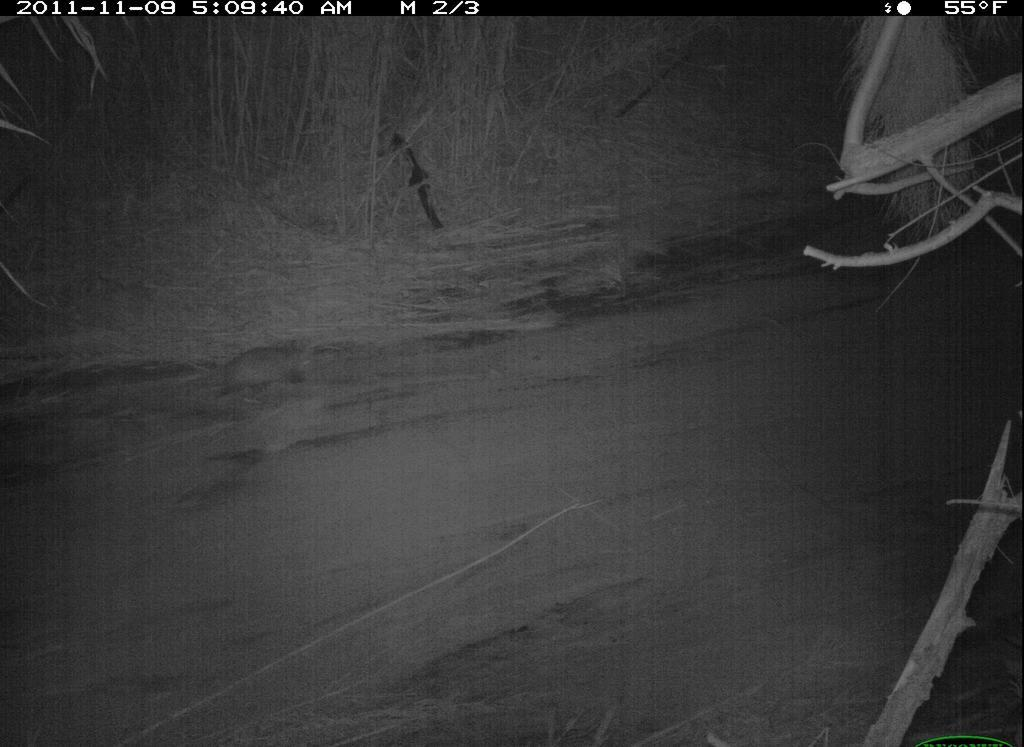opossum: (209, 329, 331, 409)
